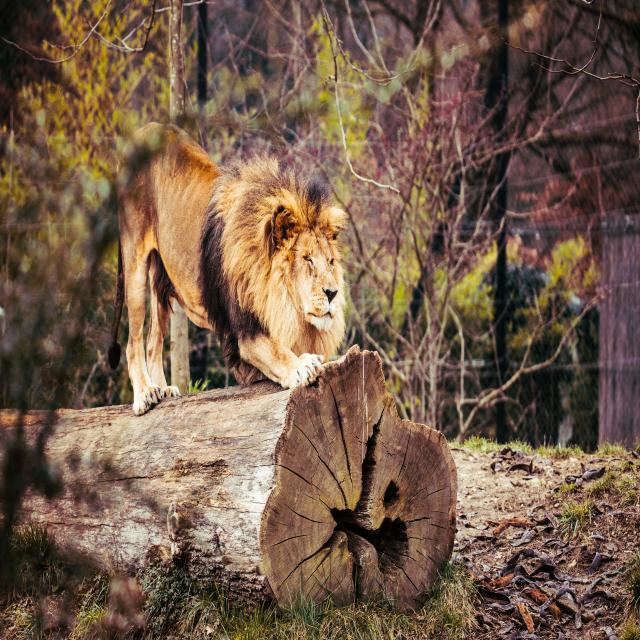Lion: (108, 122, 347, 418)
